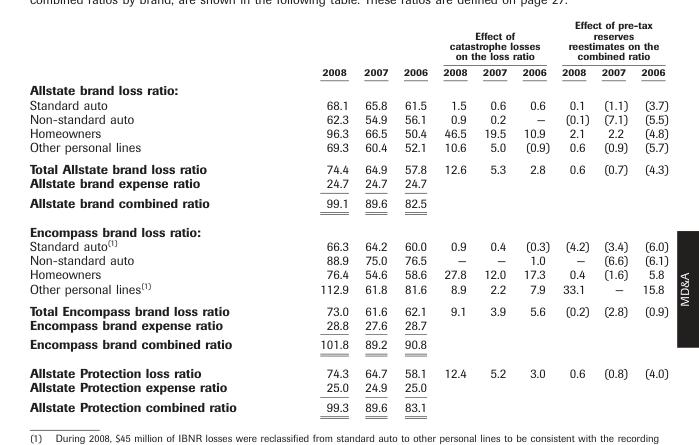table: (28, 28, 667, 414)
table column: (28, 28, 277, 414), (277, 28, 355, 414), (513, 28, 555, 414), (355, 28, 395, 414), (434, 28, 474, 414), (395, 28, 434, 414), (474, 28, 513, 414), (555, 28, 594, 414), (594, 28, 633, 414), (633, 28, 667, 414)
table column header: (28, 28, 667, 79)
table projected row header: (28, 216, 667, 238), (28, 79, 667, 97)
table row: (28, 28, 667, 63), (28, 333, 667, 358), (28, 192, 667, 216), (28, 216, 667, 238), (28, 358, 667, 379), (28, 280, 667, 299), (28, 79, 667, 97), (28, 139, 667, 157), (28, 157, 667, 175), (28, 299, 667, 317), (28, 396, 667, 414), (28, 175, 667, 192), (28, 379, 667, 396), (28, 63, 667, 79), (28, 317, 667, 333), (28, 97, 667, 111), (28, 111, 667, 125), (28, 125, 667, 139), (28, 238, 667, 252), (28, 252, 667, 266), (28, 266, 667, 280)
table spanning cell: (434, 28, 555, 63), (277, 28, 355, 79), (555, 28, 667, 63), (355, 28, 395, 79), (395, 28, 434, 79)
